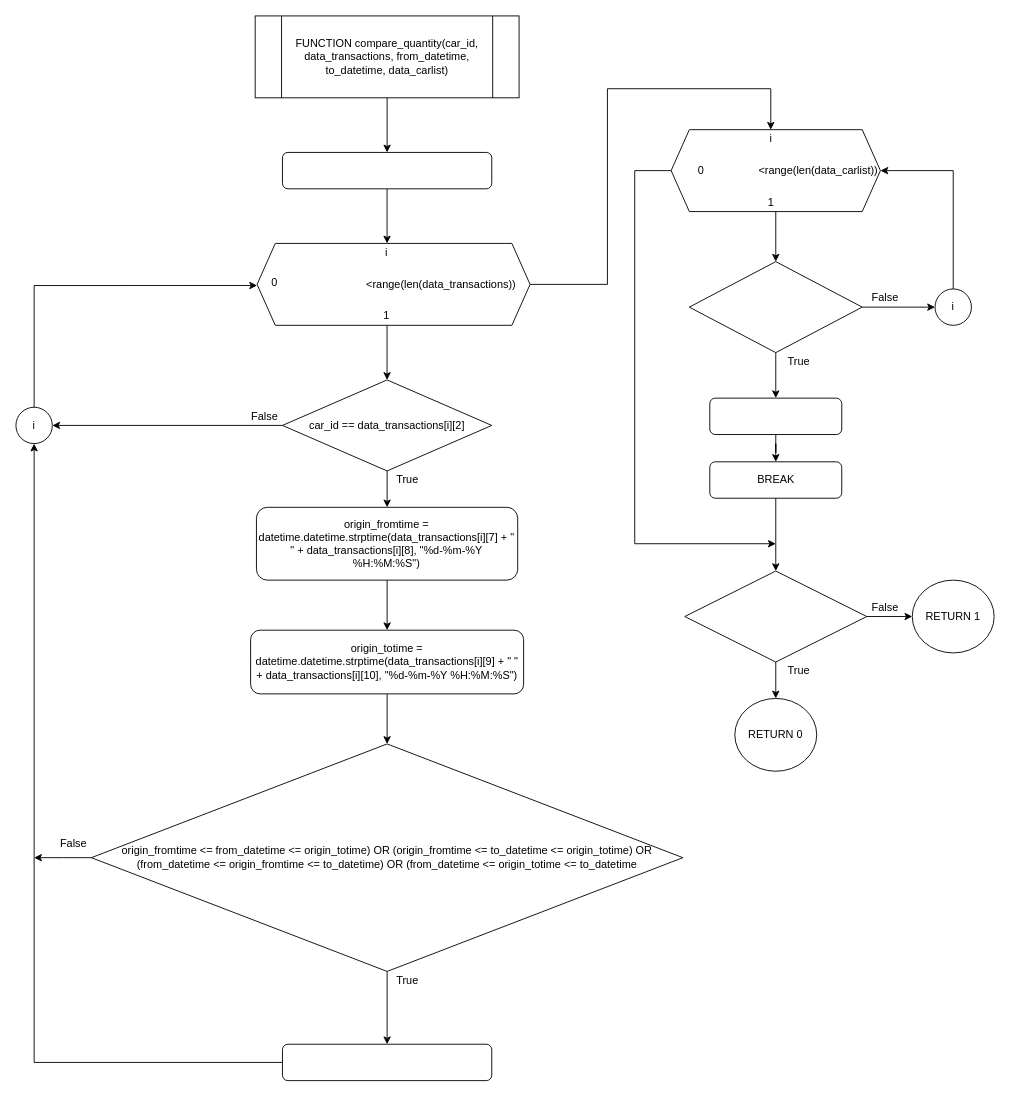
This 1010x1097 diagram has some shape labels left out. The centre of each missing label's shape, as x and y in pixels:
available_quantity = data_carlist[i][6]: (775,416)
count += 1: (387,1062)
count = 0: (387,170)
data_carlist[i][0] == car_id: (775,307)
int(available_quantity) == count: (775,616)
